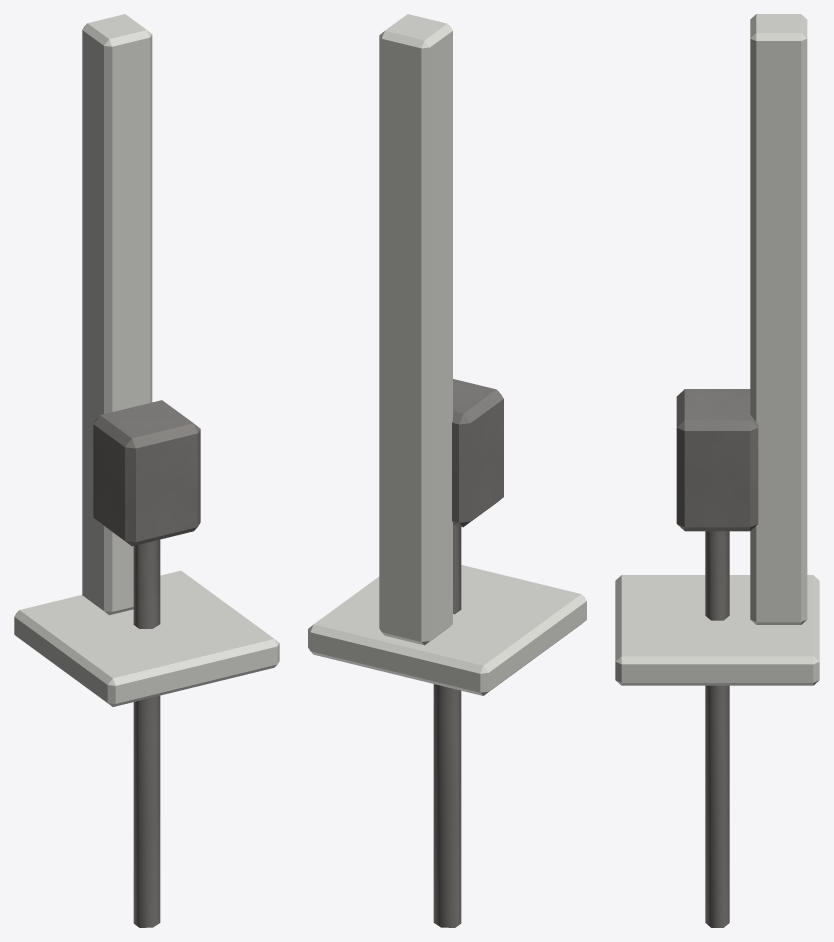
The model's file is ax_rover_23_coring_drill_digging.glb.
The picture shows the model from 3 angles, left to right: view 1: azimuth 30°, elevation 25°; view 2: azimuth 150°, elevation 25°; view 3: azimuth 270°, elevation 25°; orthographic projection. The views are drawn at different scales.
Visible parts, largest first — view 1: mast, drill_head, base_plate; view 2: mast, base_plate, drill_head; view 3: mast, drill_head, base_plate.
Boxes of the visible parts, <box> form: mast: <box>82,14,152,615</box>; drill_head: <box>93,400,200,927</box>; base_plate: <box>14,570,279,706</box>; mast: <box>379,14,452,645</box>; base_plate: <box>308,565,586,695</box>; drill_head: <box>433,379,503,927</box>; mast: <box>750,14,807,624</box>; drill_head: <box>676,389,758,927</box>; base_plate: <box>615,575,819,685</box>.
Bounding box in the file's own units: 0.5 × 2.43 × 0.5.
2 materials, 1 textured.
